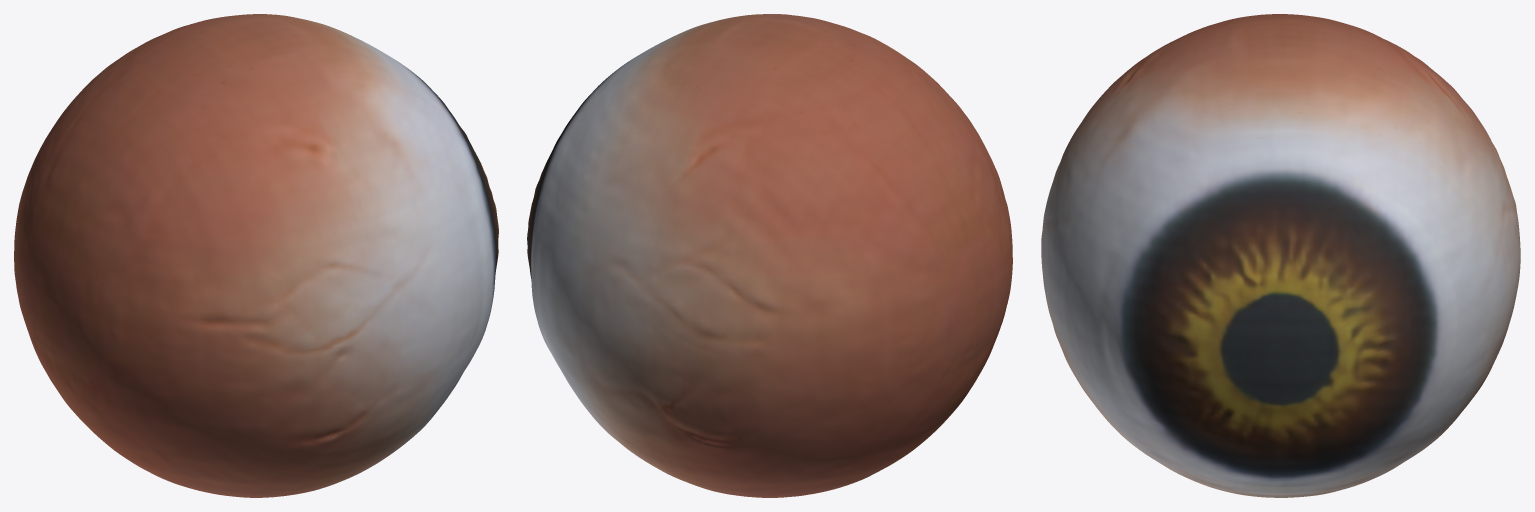
The model's file is eye.glb.
The picture shows the model from 3 angles, left to right: view 1: azimuth 30°, elevation 25°; view 2: azimuth 150°, elevation 25°; view 3: azimuth 270°, elevation 25°; orthographic projection.
Visible parts, largest first — view 1: world; view 2: world; view 3: world.
Part boxes in pixels (bbox=[...]): world: bbox=[14, 14, 498, 497]; world: bbox=[527, 14, 1012, 497]; world: bbox=[1041, 14, 1520, 497].
Size of the model in its own units: 0.5937 by 0.5966 by 0.5876.
Materials: 1 (1 with a texture image).
